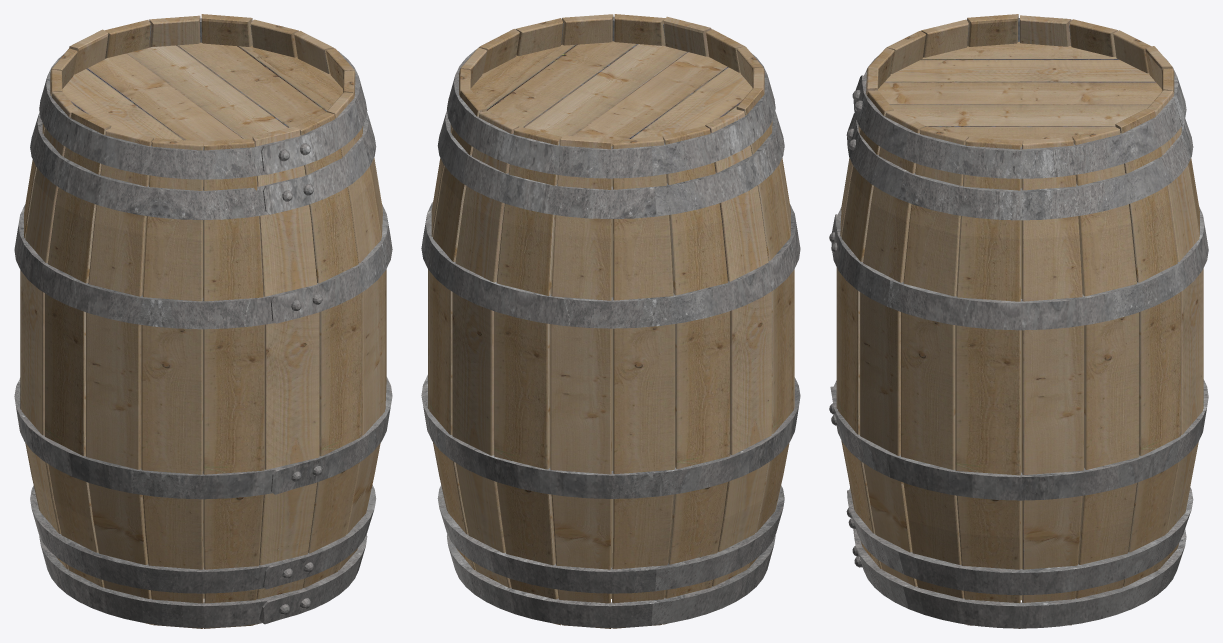
The model's file is barrel.obj.
3 views of the same model, side by side, from view 1: azimuth 30°, elevation 25°; view 2: azimuth 150°, elevation 25°; view 3: azimuth 270°, elevation 25° (orthographic).
Parts seen in each view (by area): view 1: obj0; view 2: obj0; view 3: obj0.
Part boxes in pixels (x1,y1,x2,y2): obj0: [14, 14, 392, 628]; obj0: [421, 14, 800, 628]; obj0: [829, 14, 1208, 628].
Bounding box in the file's own units: 0.92 × 1.3 × 0.9195.
3 materials, 3 textured.
